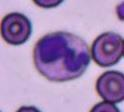N: (33, 32, 90, 81)
